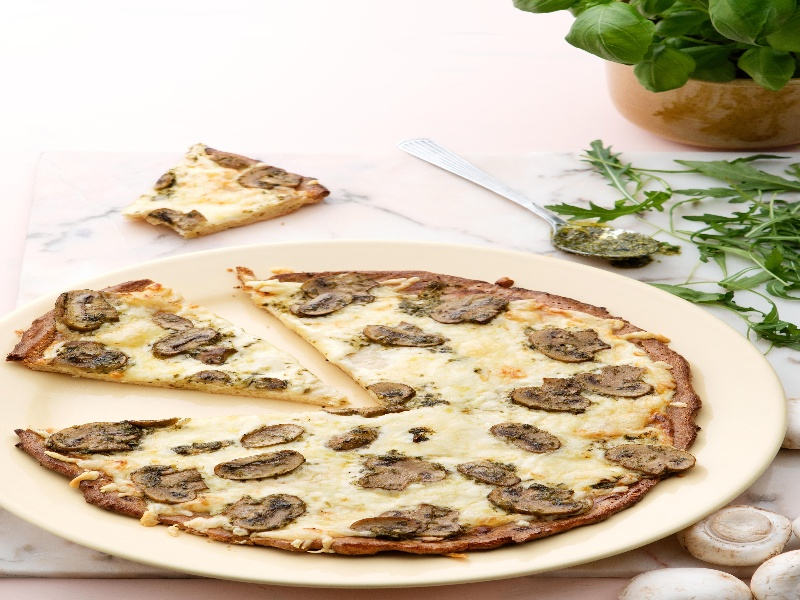champignon: (481, 478, 601, 523), (516, 319, 613, 368), (345, 454, 455, 496), (600, 438, 700, 480), (150, 323, 237, 370), (129, 461, 212, 508), (223, 495, 308, 537), (508, 372, 592, 413), (487, 419, 570, 458), (576, 363, 658, 401), (217, 452, 312, 484), (362, 323, 450, 357)
